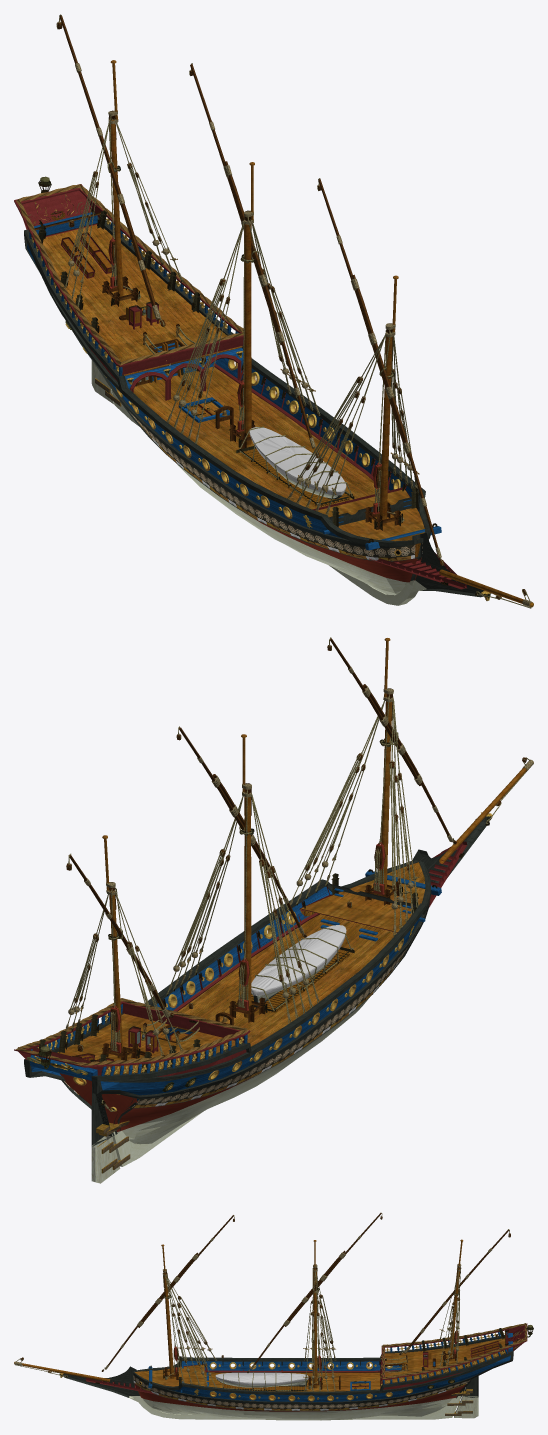
File: xebec.FBX
3 renders of one model, top to bottom at view 1: azimuth 30°, elevation 25°; view 2: azimuth 150°, elevation 25°; view 3: azimuth 270°, elevation 25°, orthographic. The views are drawn at different scales.
Parts seen in each view (by area): view 1: fo_c_sle_deck_0Geo_01, mizzen_base, keel_grain_trim_0Geo_01, bowframe_grain_trim_0Geo_01, mast3, mast2, cabin_facing_prim_0Geo_01, metal_0Geo_01, mizzenmast_wood_0Geo_01, hull_cust_prim_0Geo_01, longboat_cover_sails_0Geo_01, hull_main_submerged_0Geo_01 (+7 smaller); view 2: fo_c_sle_deck_0Geo_01, keel_grain_trim_0Geo_01, mizzen_base, mast2, mast3, bowframe_grain_trim_0Geo_01, cabin_facing_prim_0Geo_01, metal_0Geo_01, mizzenmast_wood_0Geo_01, longboat_cover_sails_0Geo_01, hull_main_submerged_0Geo_01, hull_cust_prim_0Geo_01 (+9 smaller); view 3: keel_grain_trim_0Geo_01, fo_c_sle_deck_0Geo_01, cabin_facing_prim_0Geo_01, mizzen_base, hull_main_submerged_0Geo_01, mast2, bowframe_grain_trim_0Geo_01, hull_cust_prim_0Geo_01, mast3, metal_0Geo_01, keel_grain_submerged_0Geo_01, hull_main_prim_0Geo_01 (+8 smaller).
Part boxes in pixels (x1=…): fo_c_sle_deck_0Geo_01: x1=42, y1=225, x2=424, y2=559; mizzen_base: x1=16, y1=184, x2=500, y2=596; keel_grain_trim_0Geo_01: x1=24, y1=216, x2=483, y2=597; bowframe_grain_trim_0Geo_01: x1=14, y1=184, x2=466, y2=589; mast3: x1=167, y1=162, x2=320, y2=443; mast2: x1=287, y1=275, x2=419, y2=522; cabin_facing_prim_0Geo_01: x1=27, y1=243, x2=418, y2=538; metal_0Geo_01: x1=27, y1=176, x2=490, y2=600; mizzenmast_wood_0Geo_01: x1=64, y1=60, x2=183, y2=306; hull_cust_prim_0Geo_01: x1=129, y1=411, x2=428, y2=561; longboat_cover_sails_0Geo_01: x1=249, y1=427, x2=346, y2=495; hull_main_submerged_0Geo_01: x1=177, y1=464, x2=414, y2=594; fo_c_sle_deck_0Geo_01: x1=57, y1=862, x2=425, y2=1082; keel_grain_trim_0Geo_01: x1=24, y1=816, x2=490, y2=1135; mizzen_base: x1=16, y1=795, x2=502, y2=1072; mast2: x1=286, y1=638, x2=419, y2=935; mast3: x1=166, y1=734, x2=319, y2=1023; bowframe_grain_trim_0Geo_01: x1=14, y1=841, x2=467, y2=1076; cabin_facing_prim_0Geo_01: x1=31, y1=886, x2=421, y2=1100; metal_0Geo_01: x1=26, y1=812, x2=492, y2=1169; mizzenmast_wood_0Geo_01: x1=65, y1=835, x2=183, y2=1055; longboat_cover_sails_0Geo_01: x1=251, y1=925, x2=346, y2=995; hull_main_submerged_0Geo_01: x1=113, y1=997, x2=369, y2=1144; hull_cust_prim_0Geo_01: x1=64, y1=913, x2=425, y2=1107; keel_grain_trim_0Geo_01: x1=63, y1=1334, x2=513, y2=1410; fo_c_sle_deck_0Geo_01: x1=135, y1=1338, x2=505, y2=1399; cabin_facing_prim_0Geo_01: x1=171, y1=1355, x2=510, y2=1401; mizzen_base: x1=46, y1=1301, x2=527, y2=1391; hull_main_submerged_0Geo_01: x1=142, y1=1398, x2=455, y2=1420; mast2: x1=161, y1=1244, x2=216, y2=1387; bowframe_grain_trim_0Geo_01: x1=86, y1=1323, x2=527, y2=1394; hull_cust_prim_0Geo_01: x1=133, y1=1375, x2=469, y2=1410; mast3: x1=303, y1=1240, x2=336, y2=1391; metal_0Geo_01: x1=59, y1=1325, x2=533, y2=1415; keel_grain_submerged_0Geo_01: x1=129, y1=1396, x2=460, y2=1419; hull_main_prim_0Geo_01: x1=134, y1=1383, x2=465, y2=1411.
Bounding box in the file's own units: 9.47 × 26.07 × 59.08.
